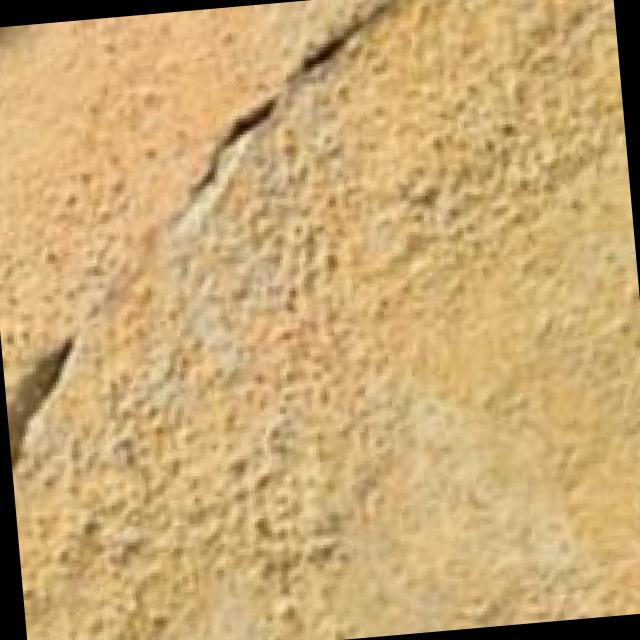crack: (0, 0, 425, 497)
